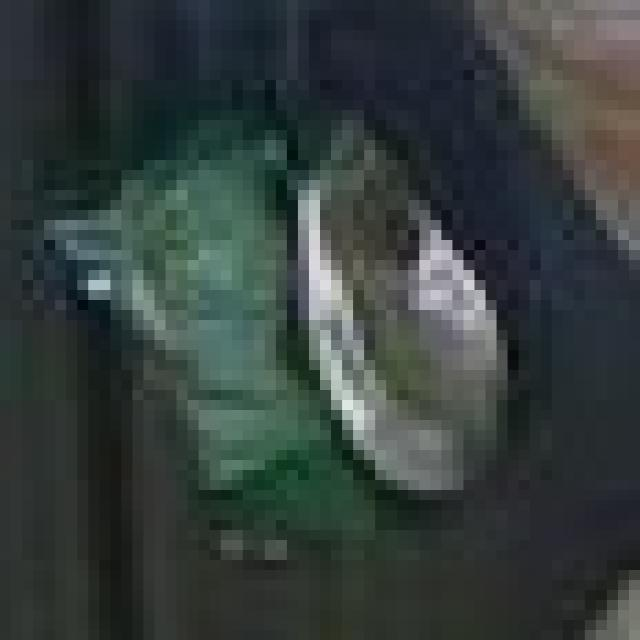litter: (36, 59, 584, 590)
